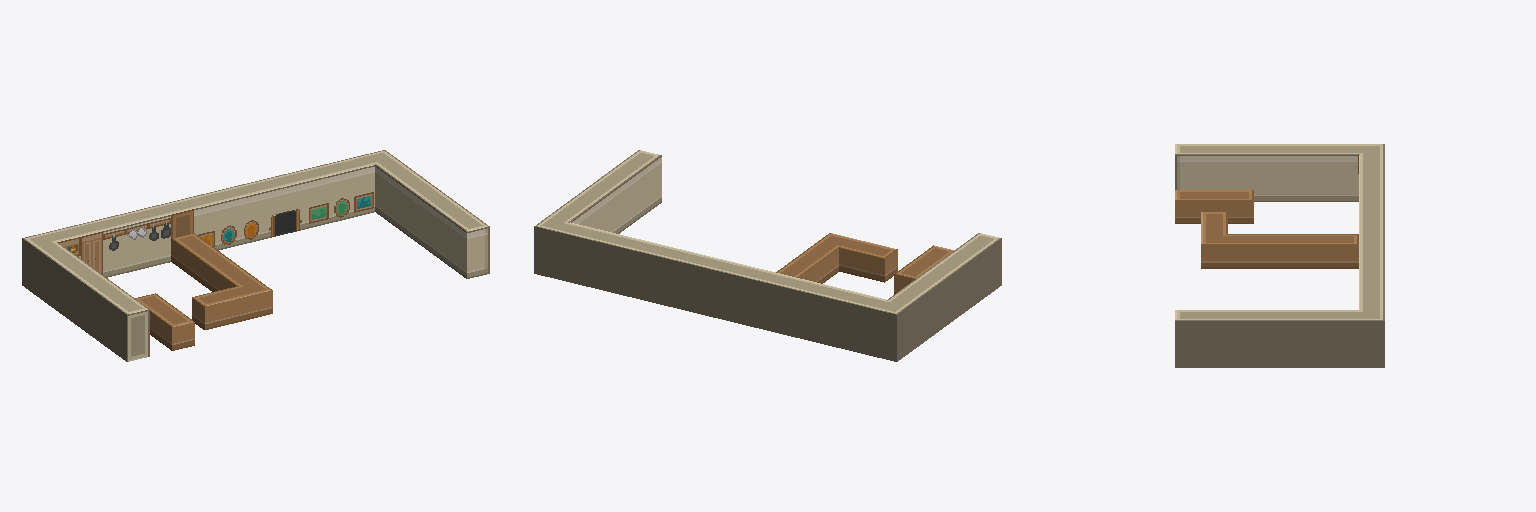
The picture shows the model from 3 angles: view 1: azimuth 30°, elevation 25°; view 2: azimuth 150°, elevation 25°; view 3: azimuth 270°, elevation 25°; orthographic projection.
Visible parts, largest first — view 1: Grid_Grid.000; view 2: Grid_Grid.000; view 3: Grid_Grid.000.
Part boxes in pixels (bbox=[...]): Grid_Grid.000: bbox=[22, 150, 489, 361]; Grid_Grid.000: bbox=[534, 150, 1001, 361]; Grid_Grid.000: bbox=[1175, 144, 1384, 367].
Size of the model in its own units: 10.24 by 1.28 by 5.12.
Materials: 4 (4 with a texture image).